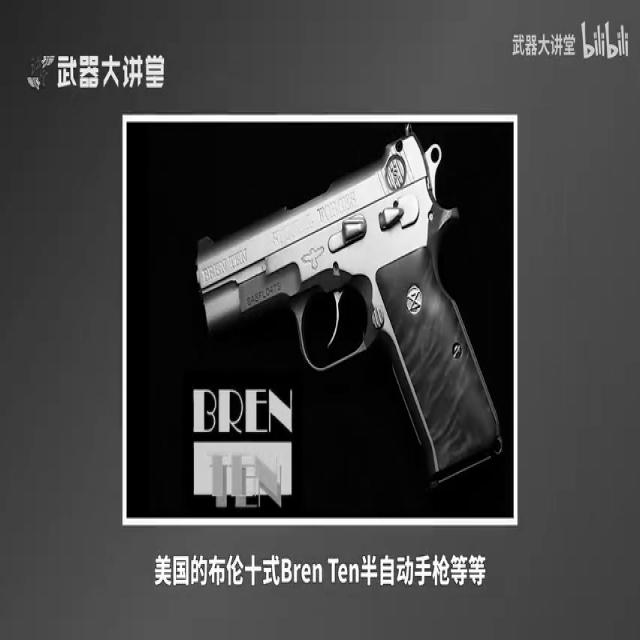Hand-Gun: (182, 123, 504, 492)
